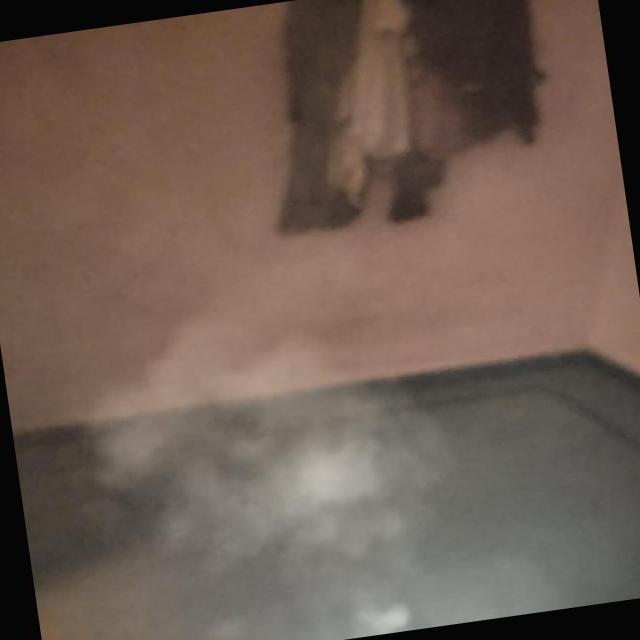smoke: (172, 315, 411, 548)
